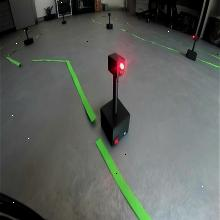red: (107, 52, 125, 78)
